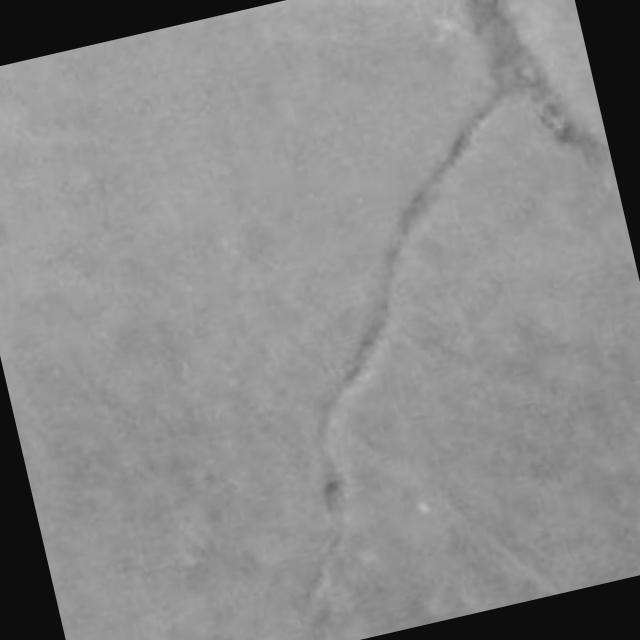crack: (305, 95, 501, 605), (466, 0, 608, 167)
